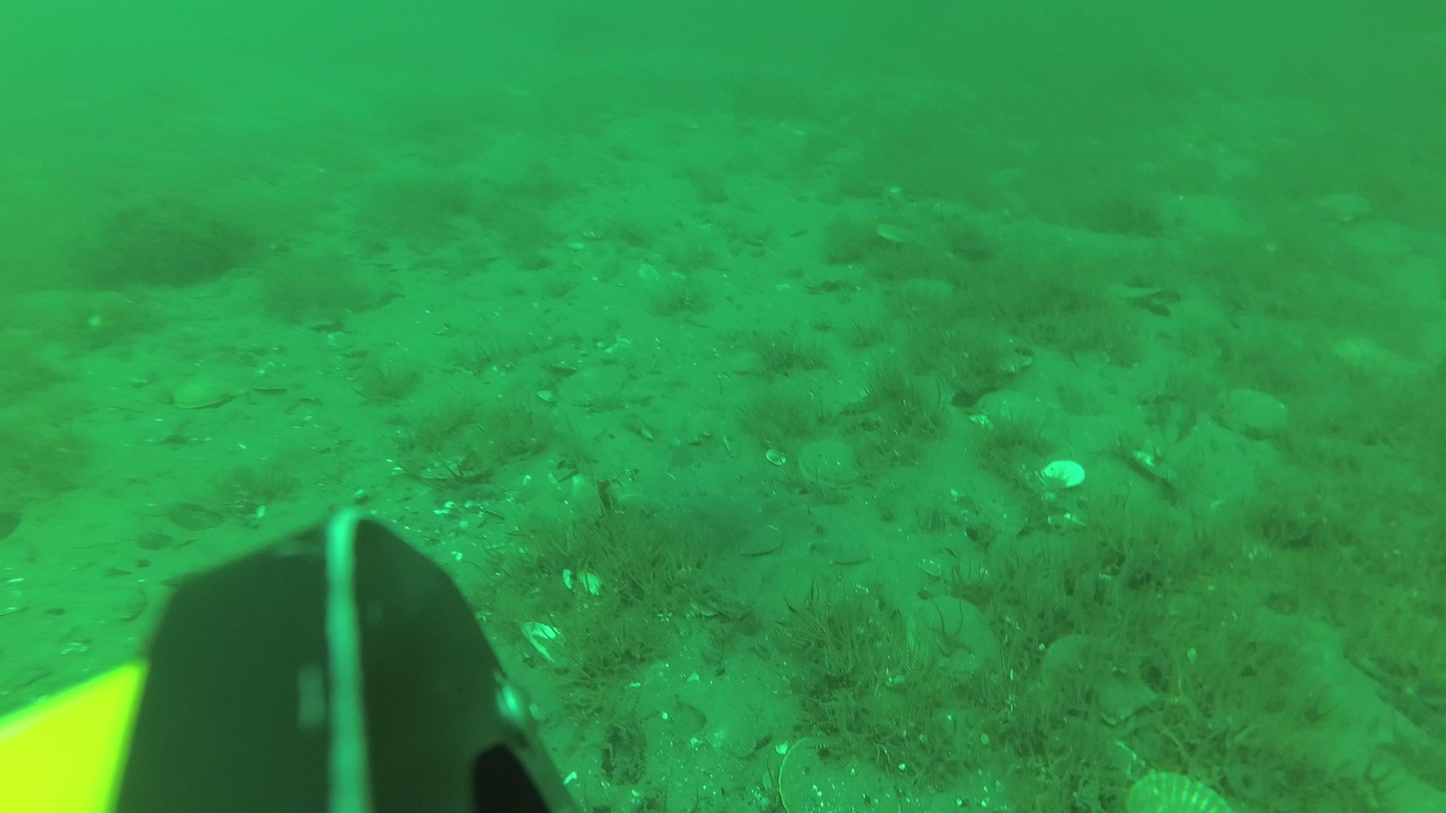scallop: (1039, 628, 1160, 727), (777, 730, 907, 813), (1129, 762, 1238, 813), (1213, 381, 1295, 439), (798, 435, 869, 491), (557, 359, 633, 408), (169, 369, 244, 414), (967, 328, 1037, 373), (1311, 186, 1374, 228)
